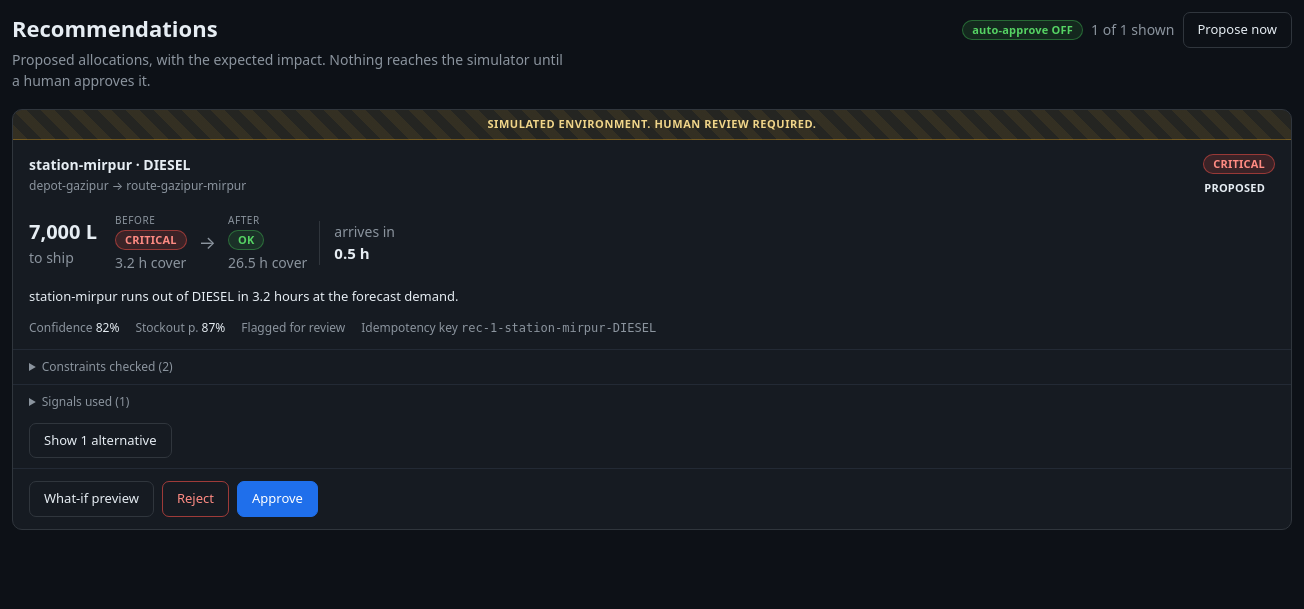
Scenario: RecommendationsView › offers the alternatives behind a toggle
Check: the text "depot-gazipur is constrained" is not shown
What coordinates should you click on to do the following:
click the button "Show 1 alternative"
I would click on:
 (100, 440)
Its box is [29,422,172,458].
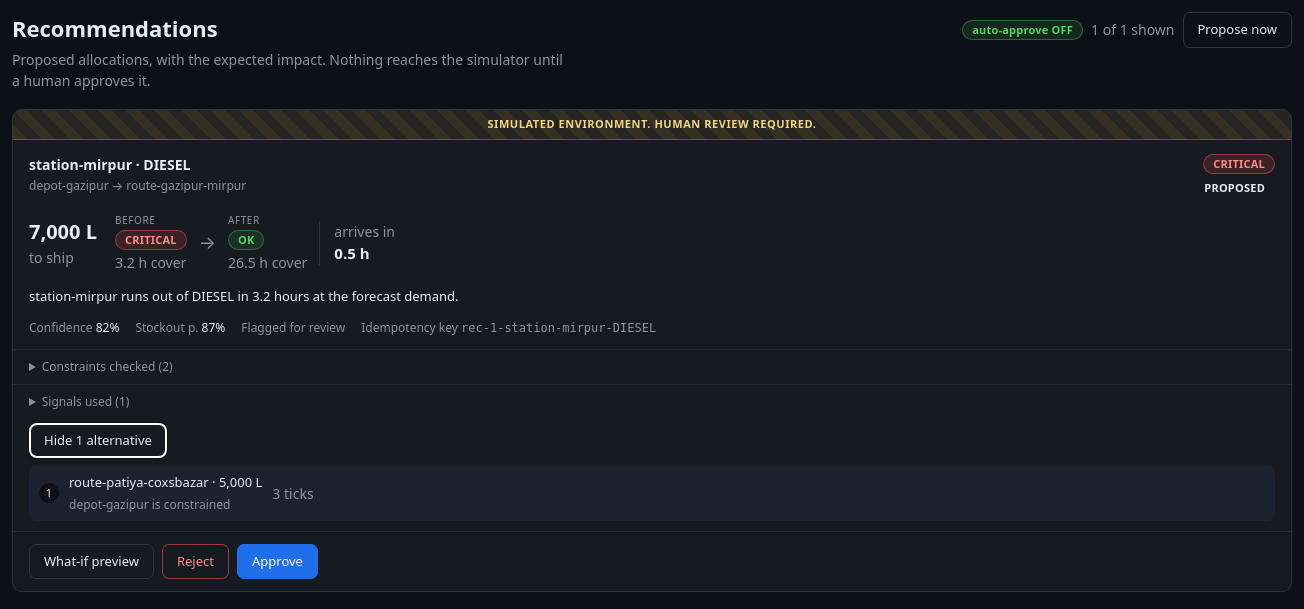
Check: the text "depot-gazipur is constrained" is shown, box [69,496,230,512]
Check: the text "route-patiya-coxsbazar · 5,000 L" is shown, box [69,473,262,492]
